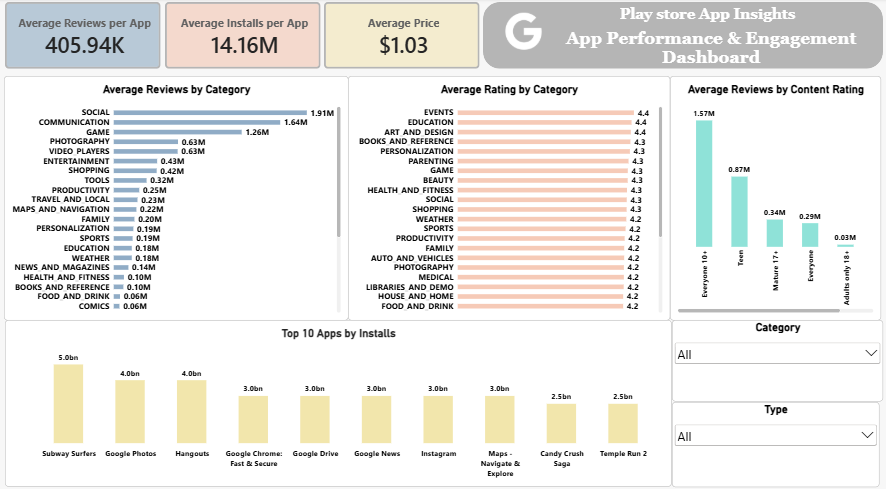

What the dashboard file says about the page in this screenshot:
{"tool":"powerbi","page":{"name":"App Performance & Engagement","canvas":[1920,1080],"ordinal":1},"visuals":[{"type":"group","id":"g1","title":"Group 1","box":[1048,8,864,152],"z":0},{"type":"shape","box":[1048,8,864,144],"z":0,"group":"g1"},{"type":"cardVisual","title":"Average Reviews per App","fields":{"Data":["Avg(googleplaystore.Reviews)"]},"box":[16,8,336,144],"z":1000},{"type":"textbox","box":[1336,16,416,48],"z":1000,"group":"g1"},{"type":"cardVisual","title":"Average Reviews per App","fields":{"Data":["Avg(googleplaystore.Installs_Num)"]},"box":[360,8,336,144],"z":2000},{"type":"cardVisual","title":"Average Reviews per App","fields":{"Data":["Avg(googleplaystore.Price)"]},"box":[704,8,336,144],"z":3000},{"type":"image","box":[1096,24,80,96],"z":3000,"group":"g1"},{"type":"textbox","box":[1168,64,744,96],"z":4000,"group":"g1"},{"type":"clusteredBarChart","title":"Average Reviews by Category","fields":{"Category":["googleplaystore.Category"],"Y":["Avg(googleplaystore.Reviews)"]},"box":[12.5,168.2,744,528],"z":4000},{"type":"clusteredBarChart","title":"Average Rating by Category","fields":{"Category":["googleplaystore.Category"],"Y":["Avg(googleplaystore.Rating)"]},"box":[756.5,168.2,696,528],"z":5000},{"type":"clusteredColumnChart","title":"Top 10 Apps by Installs","fields":{"Category":["googleplaystore.App"],"Y":["Sum(googleplaystore.Installs_Num)"]},"box":[16,696,1440,360],"z":6000},{"type":"clusteredColumnChart","title":"Average Reviews by Content Rating","fields":{"Category":["googleplaystore.Content Rating"],"Y":["Avg(googleplaystore.Reviews)"]},"box":[1452.5,168.2,456,528],"z":7000},{"type":"slicer","title":"Category","fields":{"Values":["googleplaystore.Category"]},"box":[1456,696,456,176],"z":8000},{"type":"slicer","title":"Type","fields":{"Values":["googleplaystore.Type"]},"box":[1456,872,448,184],"z":9000}]}

Visuals, with their boxes in screenshot pixels (x1, y1, x2, y2), scaled from the page's 1920x1080 canvas onto the 886x489 screenshot:
"Group 1" group: bbox=[484, 4, 882, 72]
shape: bbox=[484, 4, 882, 69]
"Average Reviews per App" cardVisual: bbox=[7, 4, 162, 69]
textbox: bbox=[617, 7, 808, 29]
"Average Reviews per App" cardVisual: bbox=[166, 4, 321, 69]
"Average Reviews per App" cardVisual: bbox=[325, 4, 480, 69]
image: bbox=[506, 11, 543, 54]
textbox: bbox=[539, 29, 882, 72]
"Average Reviews by Category" clusteredBarChart: bbox=[6, 76, 349, 315]
"Average Rating by Category" clusteredBarChart: bbox=[349, 76, 670, 315]
"Top 10 Apps by Installs" clusteredColumnChart: bbox=[7, 315, 672, 478]
"Average Reviews by Content Rating" clusteredColumnChart: bbox=[670, 76, 881, 315]
"Category" slicer: bbox=[672, 315, 882, 395]
"Type" slicer: bbox=[672, 395, 879, 478]
